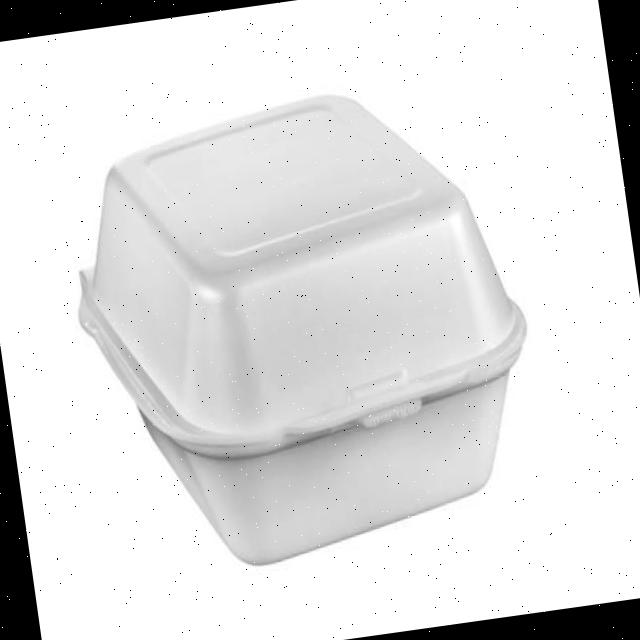styrofoam: (49, 66, 556, 586)
